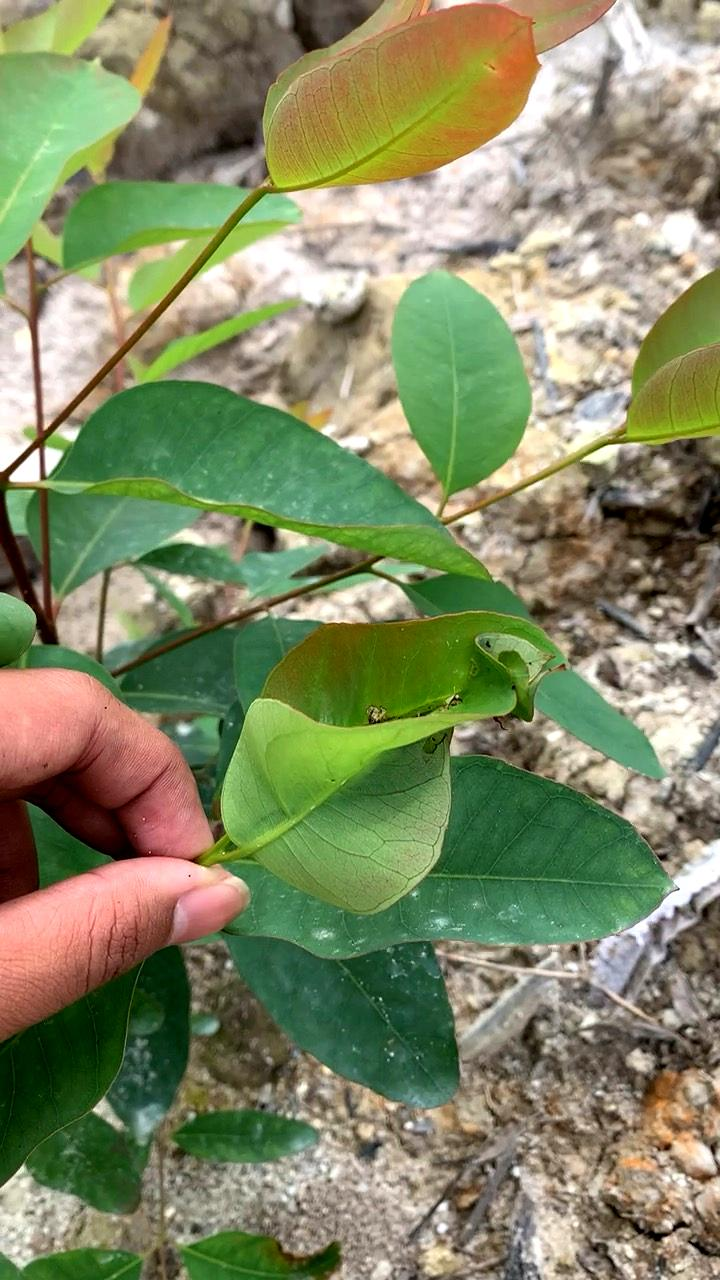Leaf Roller - Leaf: (216, 598, 573, 940)
